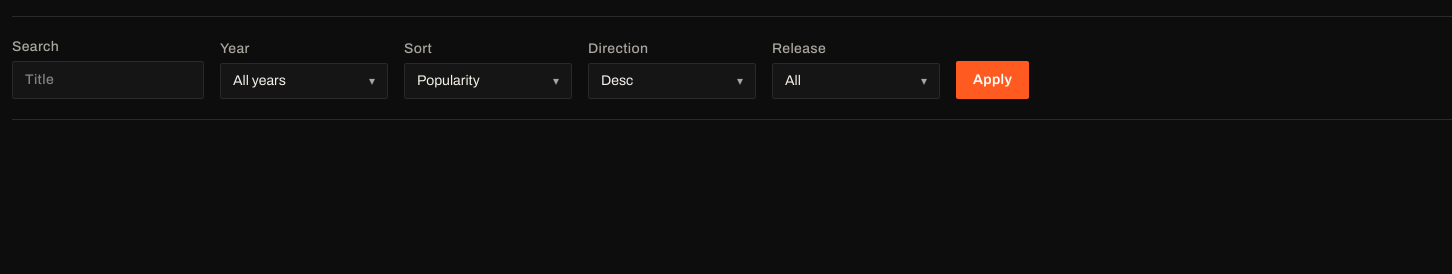
Test case: GamesBrowseFilters › offers Trending as a sort filter
Step 1. Click the button with aria-label "Sort" → {"x": 488, "y": 81}, box x1=404 y1=63 x2=572 y2=99
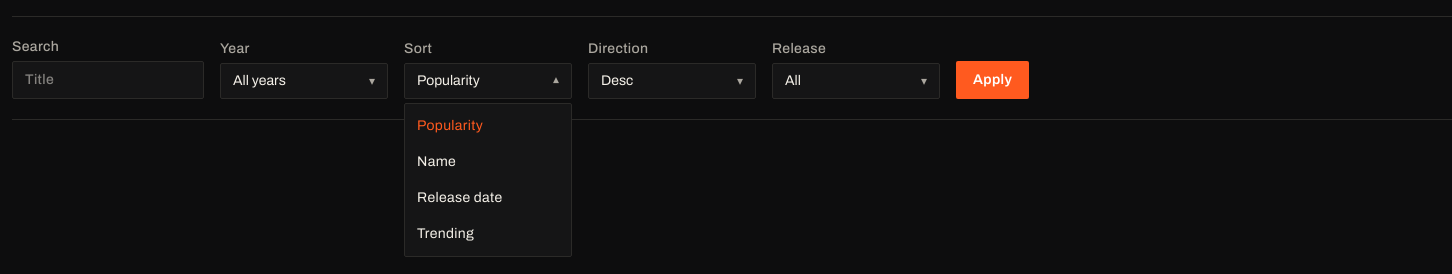
Now the button "Trending" is shown, box x1=405 y1=216 x2=571 y2=252
